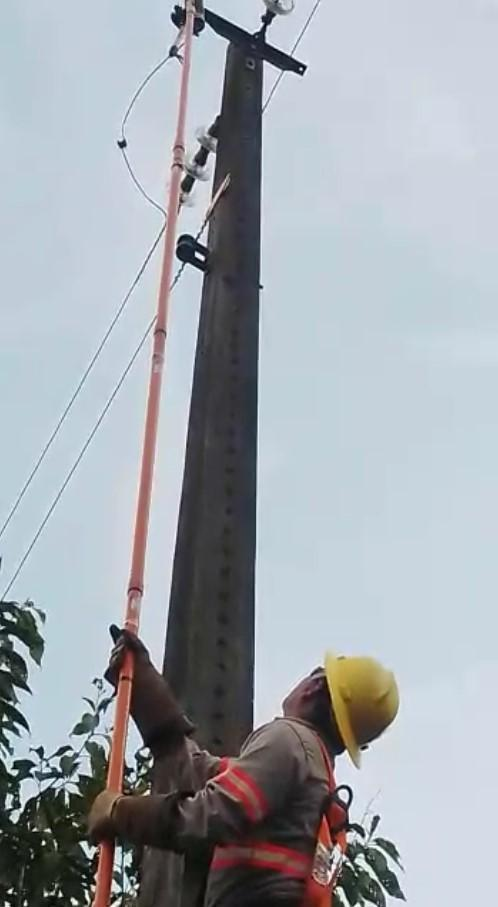helmet: (280, 647, 405, 775)
